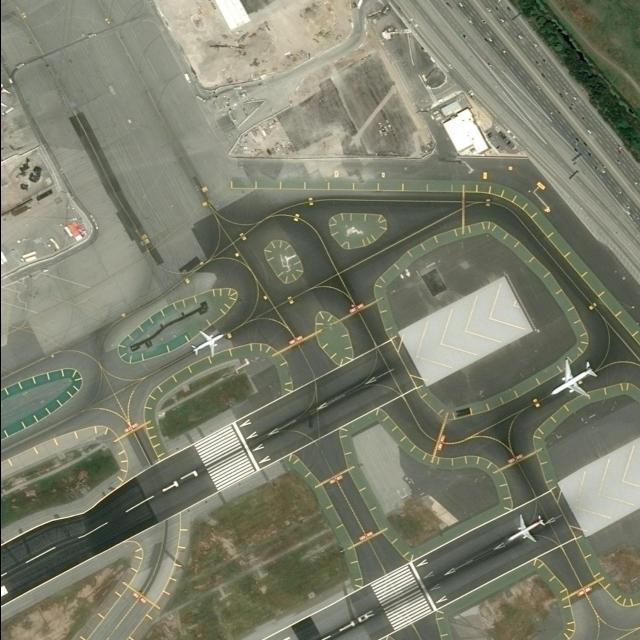Aircraft: (551, 357, 594, 401), (504, 512, 546, 543)
